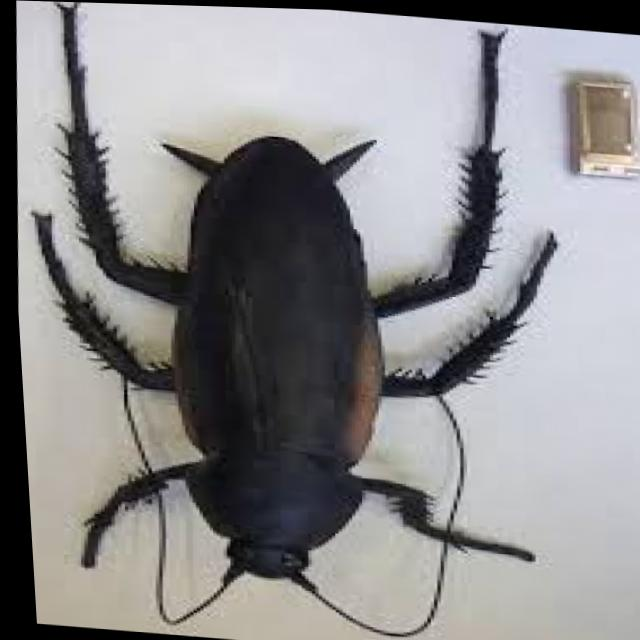Cockroach: (0, 0, 587, 640)
